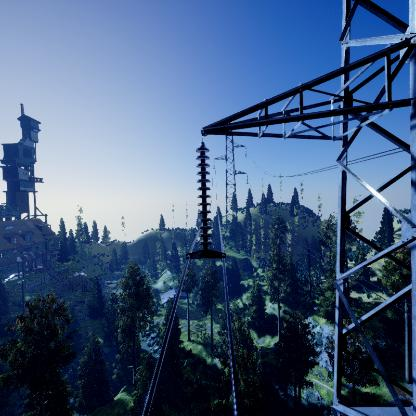insulator: (195, 144, 214, 250)
